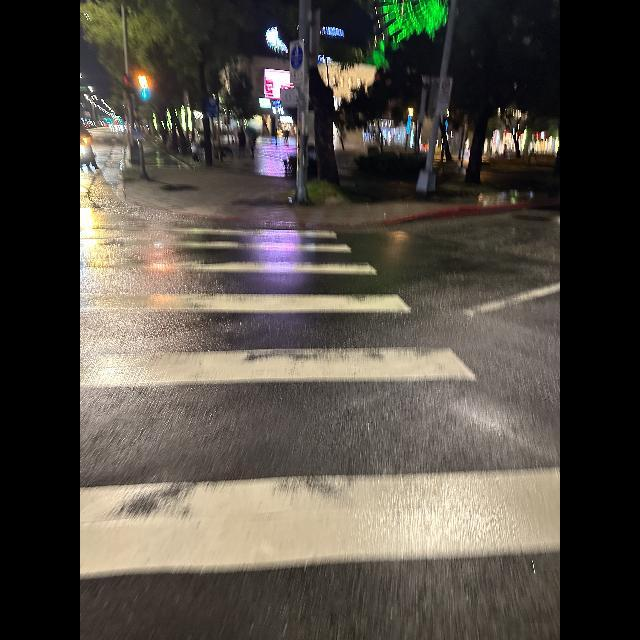sidewalk: (80, 226, 560, 577)
